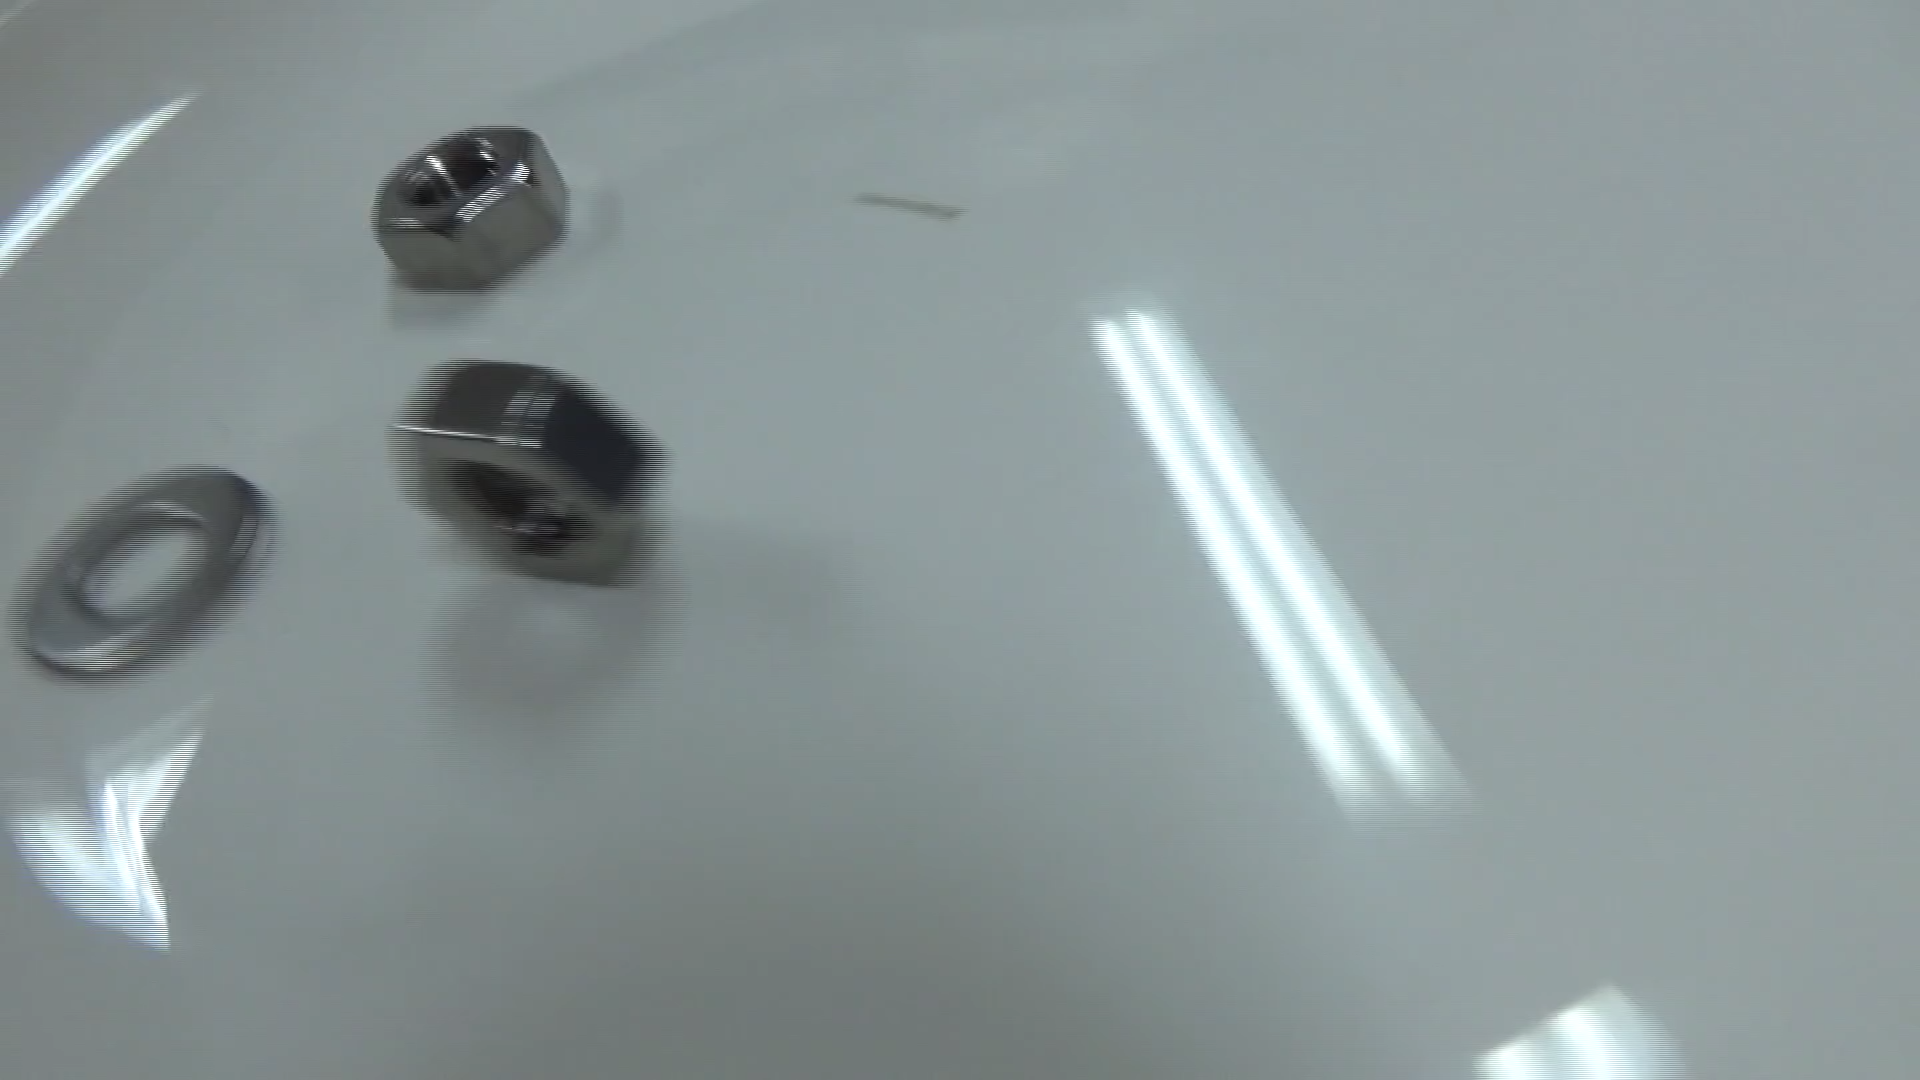nut: (385, 353, 669, 589), (371, 124, 575, 295)
washer: (7, 463, 278, 683)
